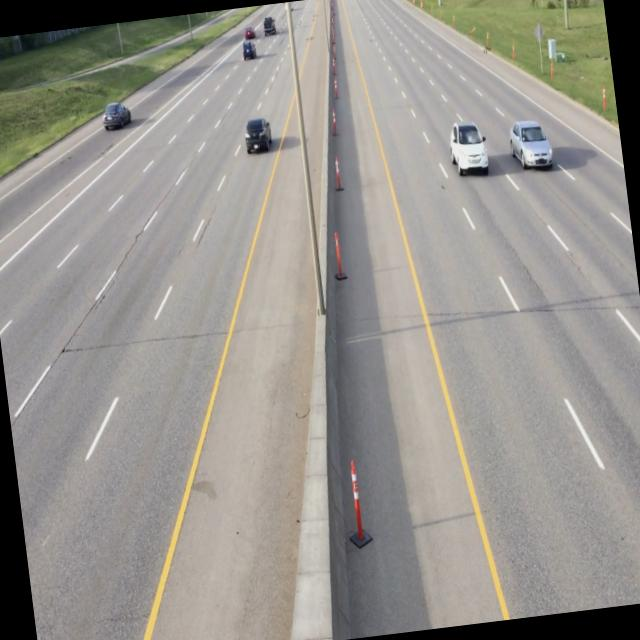Vehicle: (444, 117, 488, 180), (506, 114, 554, 171), (240, 112, 274, 158), (98, 99, 134, 134), (240, 36, 258, 64)
